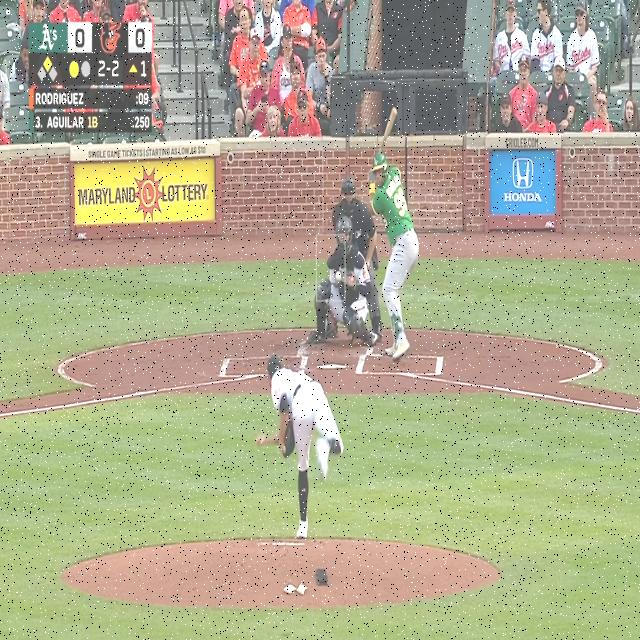baseball: (335, 270, 341, 282)
